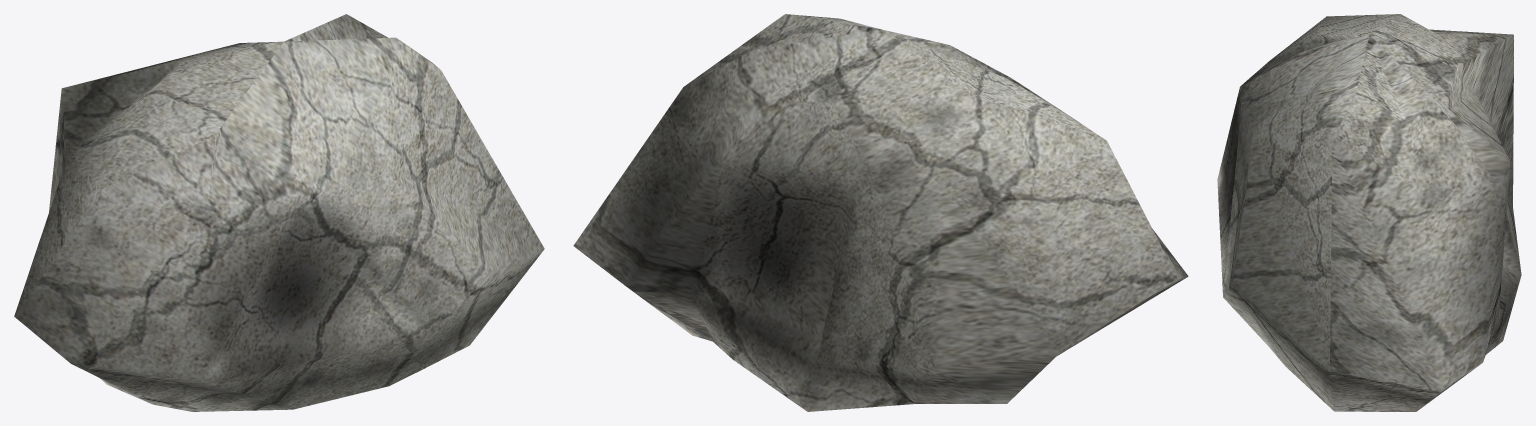
Rendered from Asteroid2.fbx.
The picture shows the model from 3 angles, left to right: view 1: azimuth 30°, elevation 25°; view 2: azimuth 150°, elevation 25°; view 3: azimuth 270°, elevation 25°; orthographic projection. The views are drawn at different scales.
Parts seen in each view (by area): view 1: pSphere1; view 2: pSphere1; view 3: pSphere1.
Boxes of the visible parts, box(x1,y1,x2,y2) form: pSphere1: box(14, 14, 544, 411); pSphere1: box(573, 14, 1188, 411); pSphere1: box(1217, 14, 1521, 411).
Size of the model in its own units: 2.73 by 1.57 by 1.41.
Materials: 1 (1 with a texture image).
